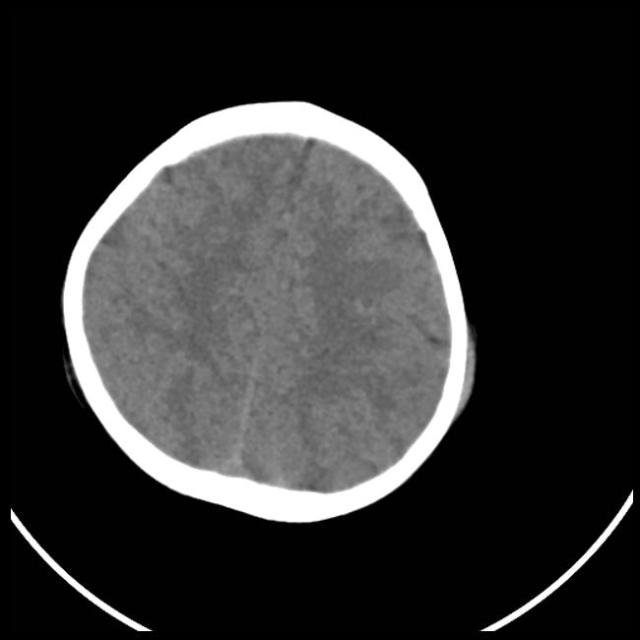lesion: (59, 98, 480, 523)
